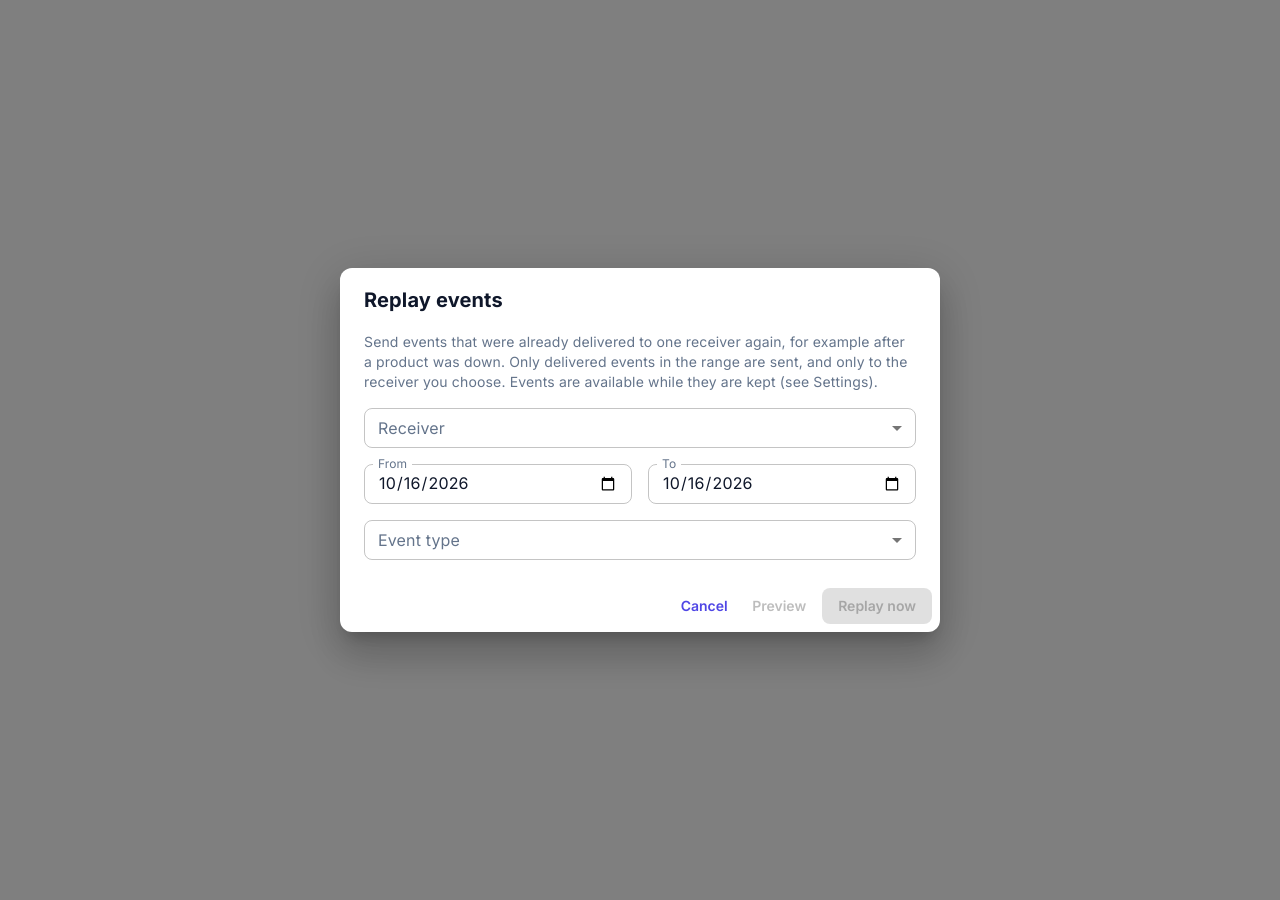
Test case: EventReplayDialog › does not allow a replay that is too large and shows the backend message
Click the 1st dropdown named "Receiver": click(640, 428) [364,408,916,448]
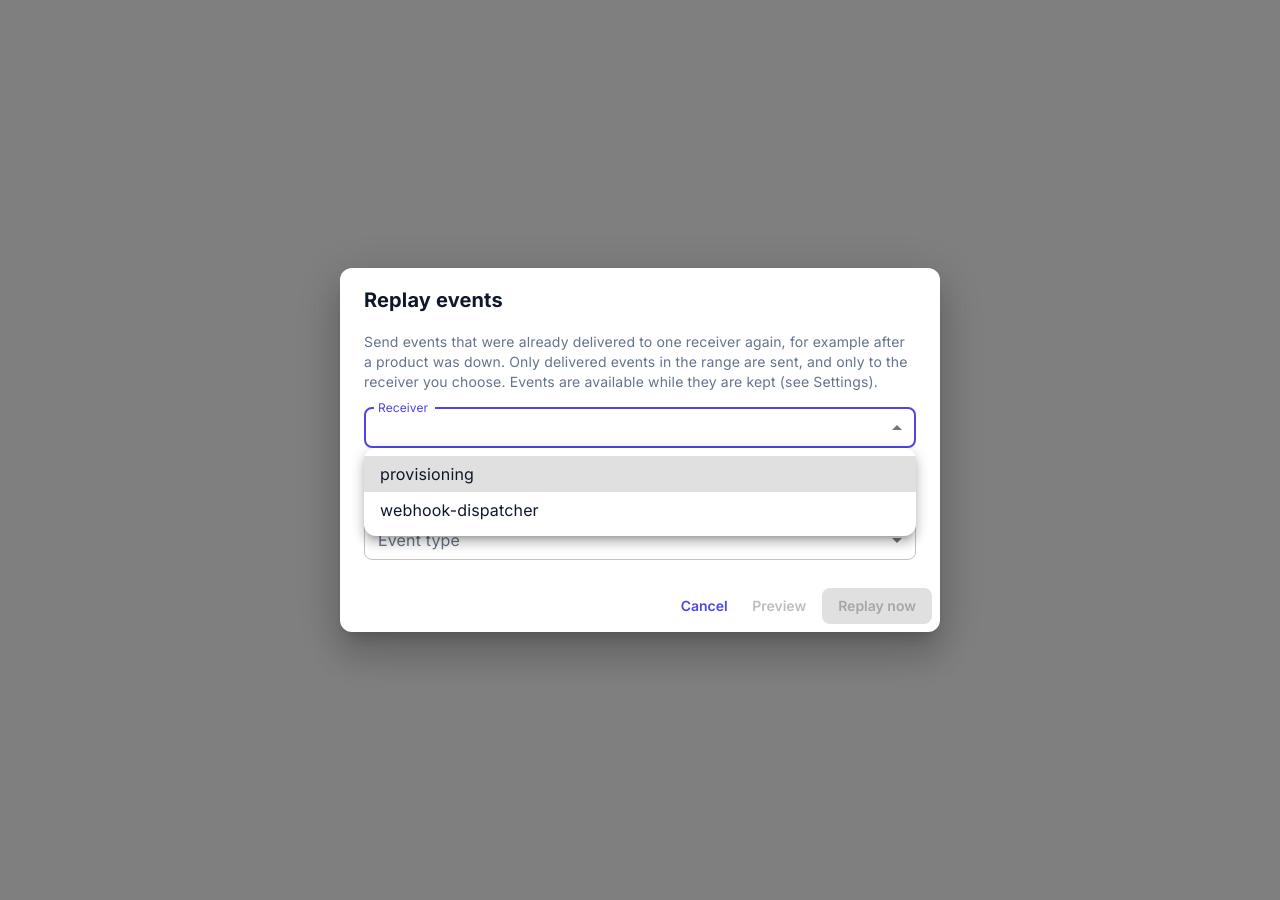
Click the option "provisioning": click(427, 474) [364,456,916,492]
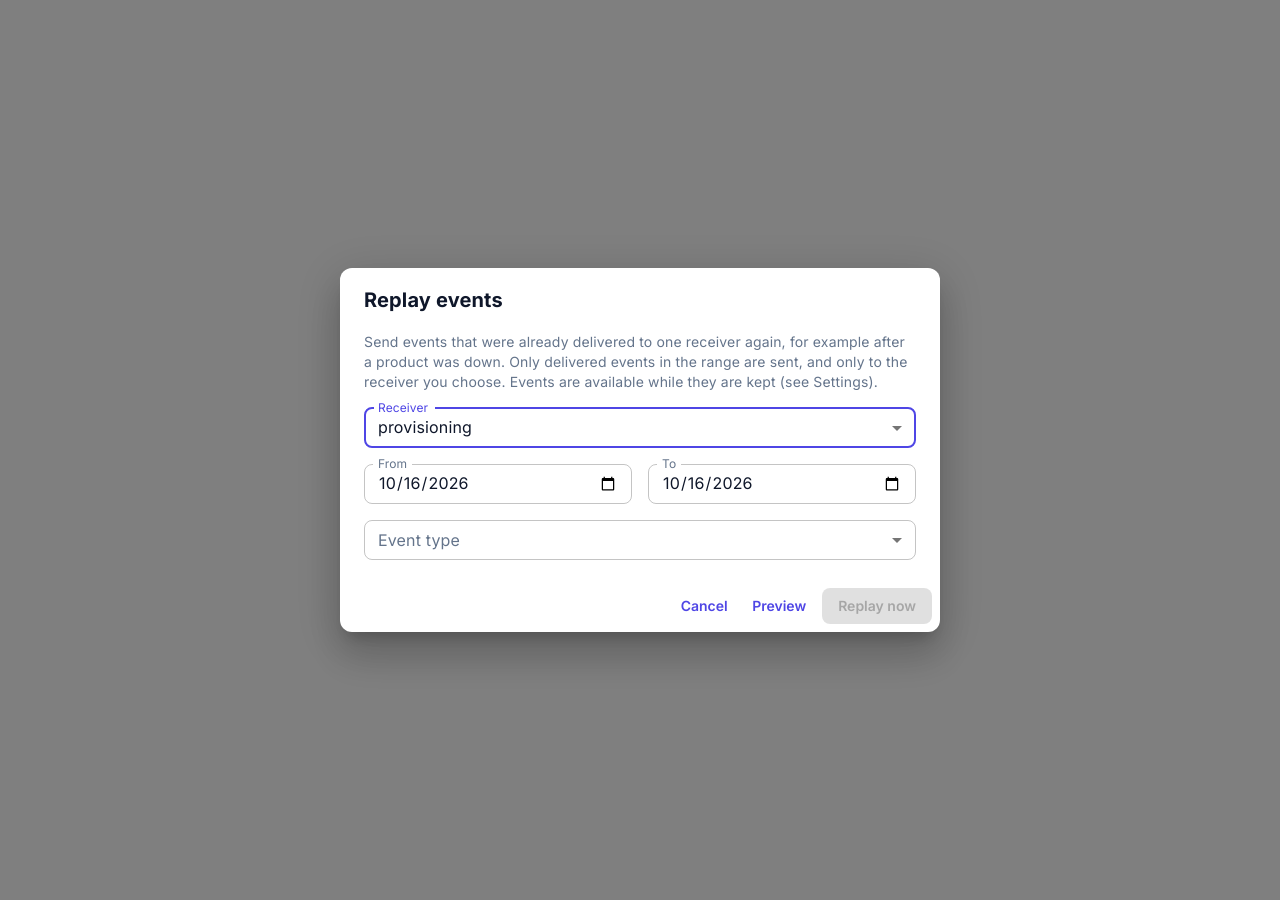
Click the button "Preview": click(779, 606) [744,588,814,624]
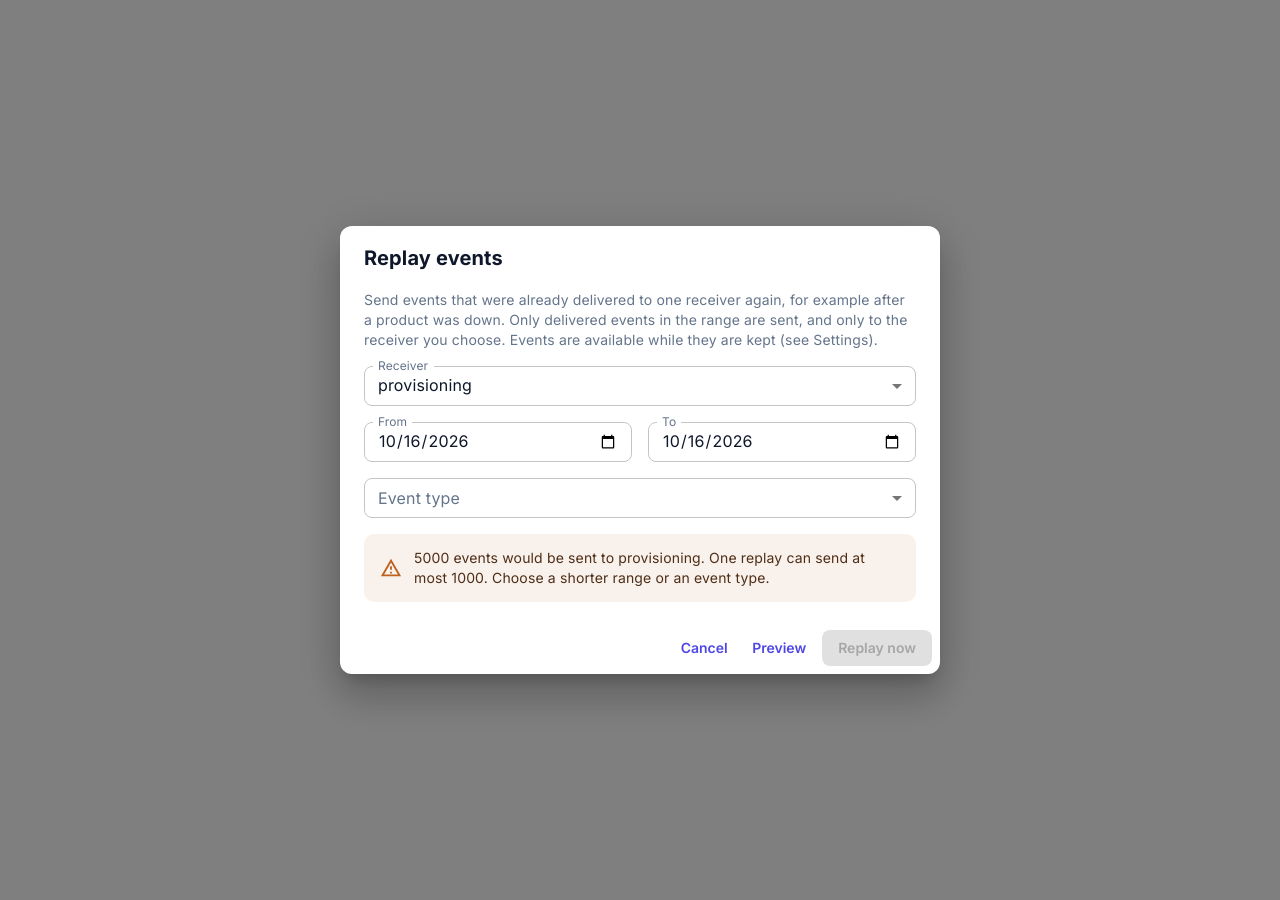
Expected: the button "Replay now" is disabled, [822,630,932,666]
Expected: the text "at most 1000" is shown, [414,549,865,586]
Click the button "Preview": click(779, 648) [744,630,814,666]
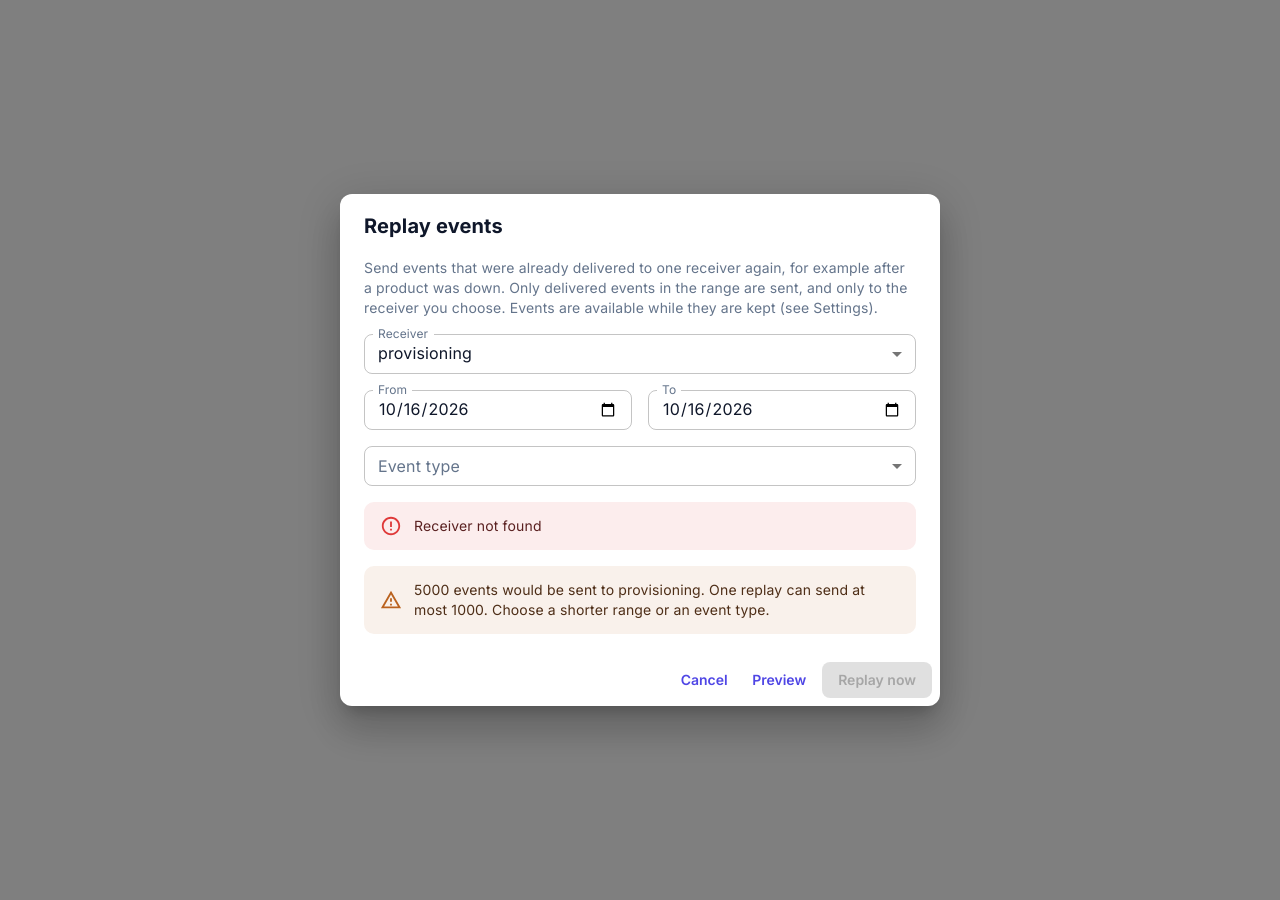
Expected: the text "Receiver not found" is shown, [414,517,542,534]
